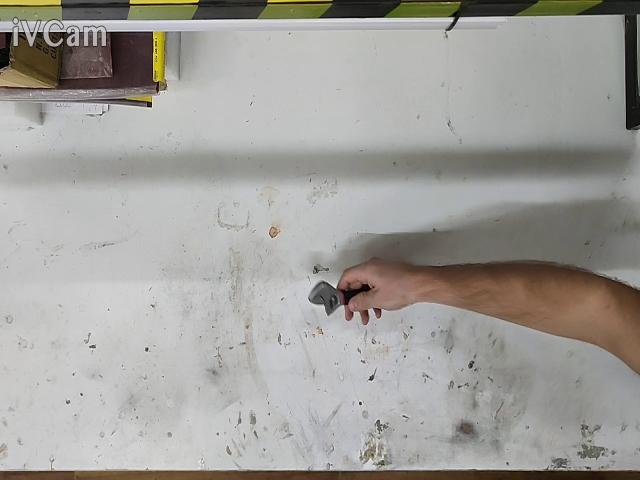Adjustable spanner: (309, 282, 370, 315)
Hand: (338, 258, 640, 374)
